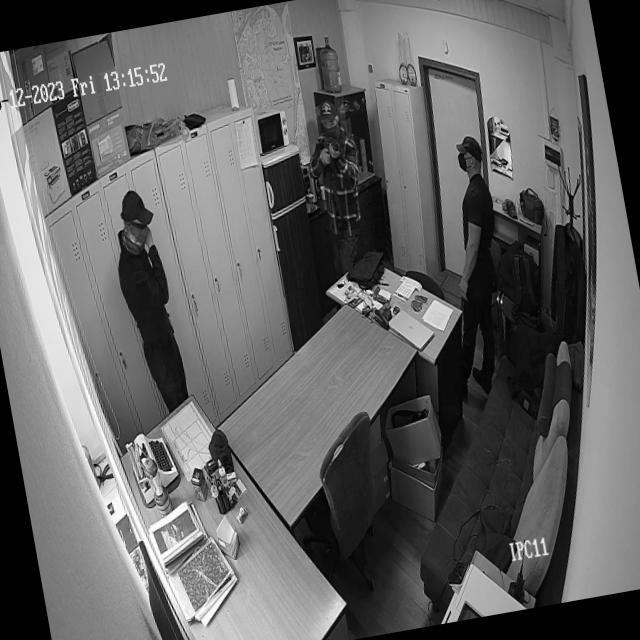gun: (316, 131, 357, 174)
person: (428, 128, 522, 364), (100, 181, 191, 404)
person with a gun: (294, 93, 375, 259)
